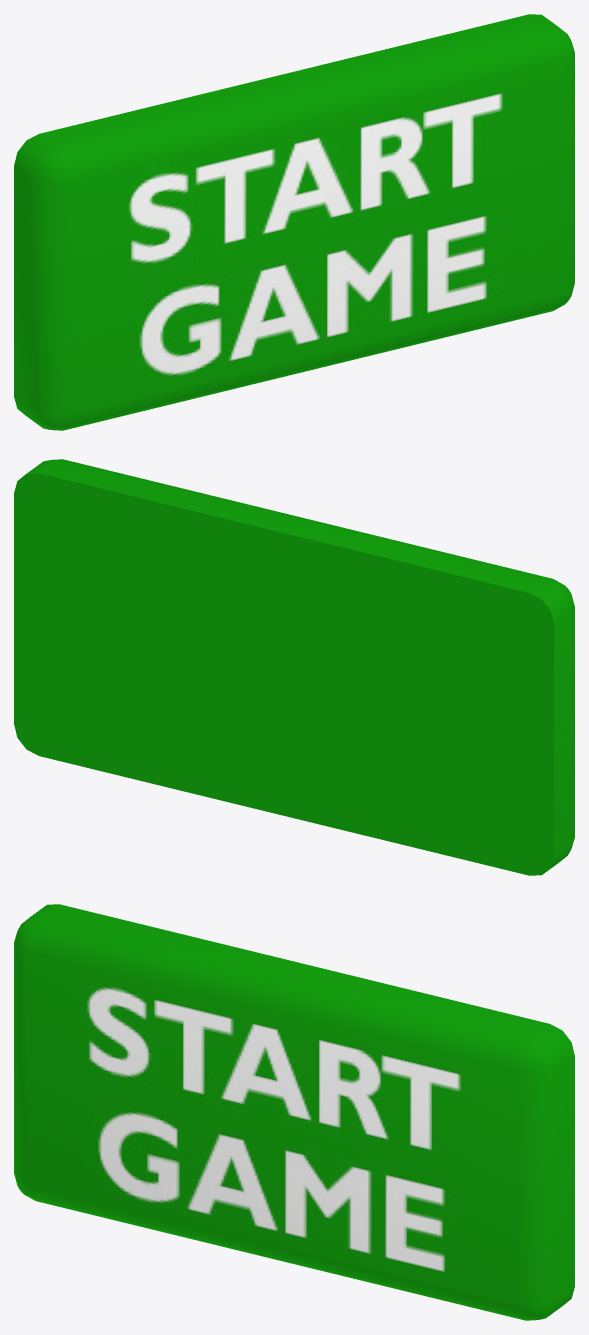
The model's file is startButton.glb.
3 renders of one model, top to bottom at view 1: azimuth 30°, elevation 25°; view 2: azimuth 150°, elevation 25°; view 3: azimuth 330°, elevation 25°, orthographic.
Parts seen in each view (by area): view 1: Cube; view 2: Cube; view 3: Cube.
Boxes of the visible parts, x1,y1,x2,y2 form: Cube: (14,14,574,430); Cube: (14,459,574,875); Cube: (14,904,574,1320).
Size of the model in its own units: 1 by 0.5 by 0.1.
Materials: 1 (1 with a texture image).
